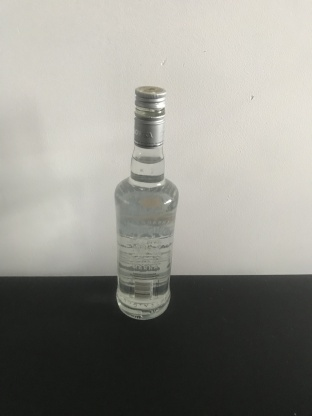nakretka: (132, 84, 167, 149)
